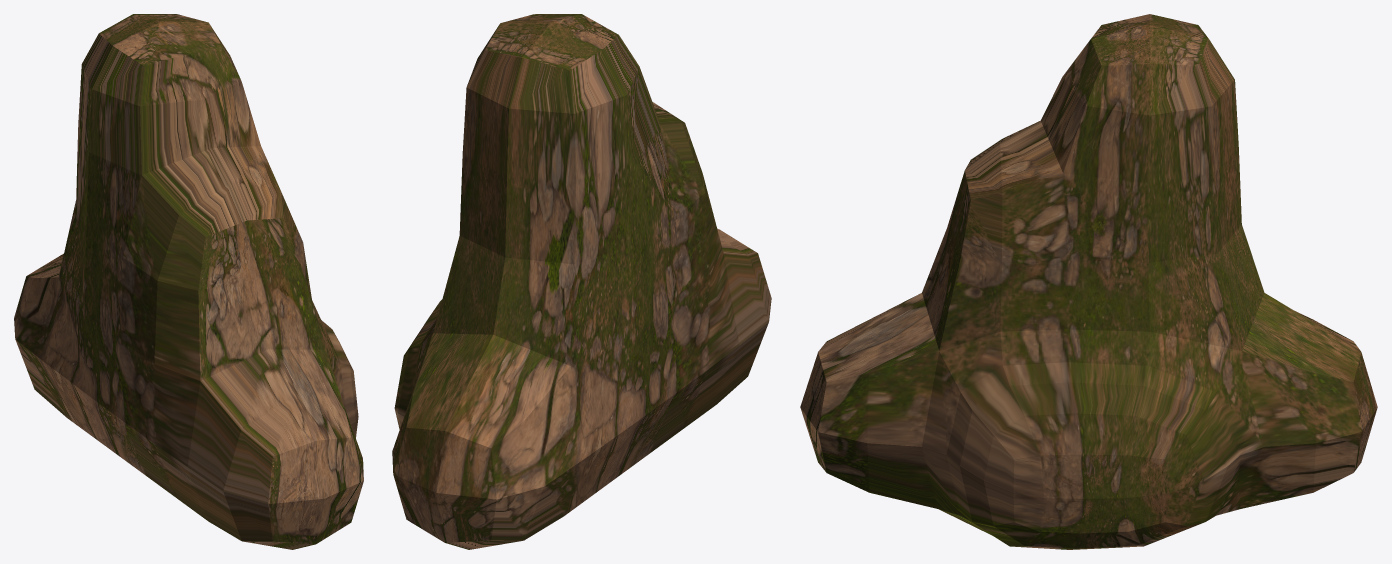
The model's file is Rock2.fbx.
3 views of the same model, side by side, from view 1: azimuth 30°, elevation 25°; view 2: azimuth 150°, elevation 25°; view 3: azimuth 270°, elevation 25° (orthographic). The views are drawn at different scales.
Visible parts, largest first — view 1: Cubo; view 2: Cubo; view 3: Cubo.
Boxes of the visible parts, left/top/right/bottom form: Cubo: left=14, top=14, right=363, bottom=549; Cubo: left=392, top=14, right=771, bottom=549; Cubo: left=800, top=14, right=1377, bottom=549.
Bounding box in the file's own units: 272 × 538 × 596.
